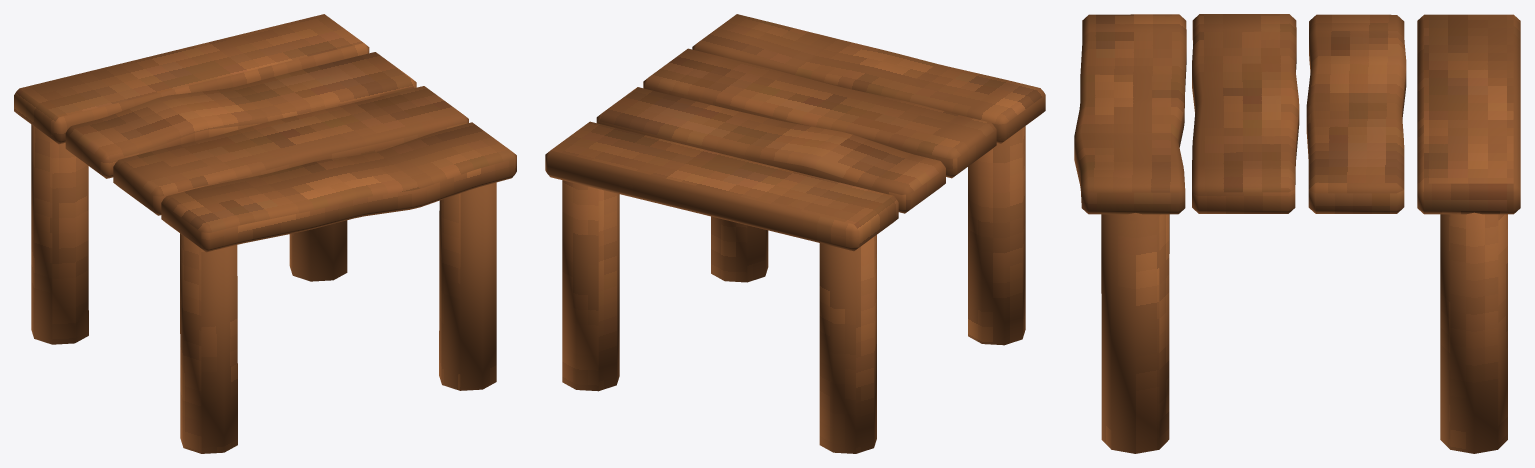
The model's file is BoardWalkBlock.glb.
The picture shows the model from 3 angles, left to right: view 1: azimuth 30°, elevation 25°; view 2: azimuth 150°, elevation 25°; view 3: azimuth 270°, elevation 25°; orthographic projection. The views are drawn at different scales.
Parts seen in each view (by area): view 1: Cube; view 2: Cube; view 3: Cube.
Boxes of the visible parts, x1,y1,x2,y2 form: Cube: (14,14,516,453); Cube: (545,14,1045,453); Cube: (1074,14,1520,453).
Size of the model in its own units: 1.22 by 0.898 by 1.32.
1 material, 1 textured.
